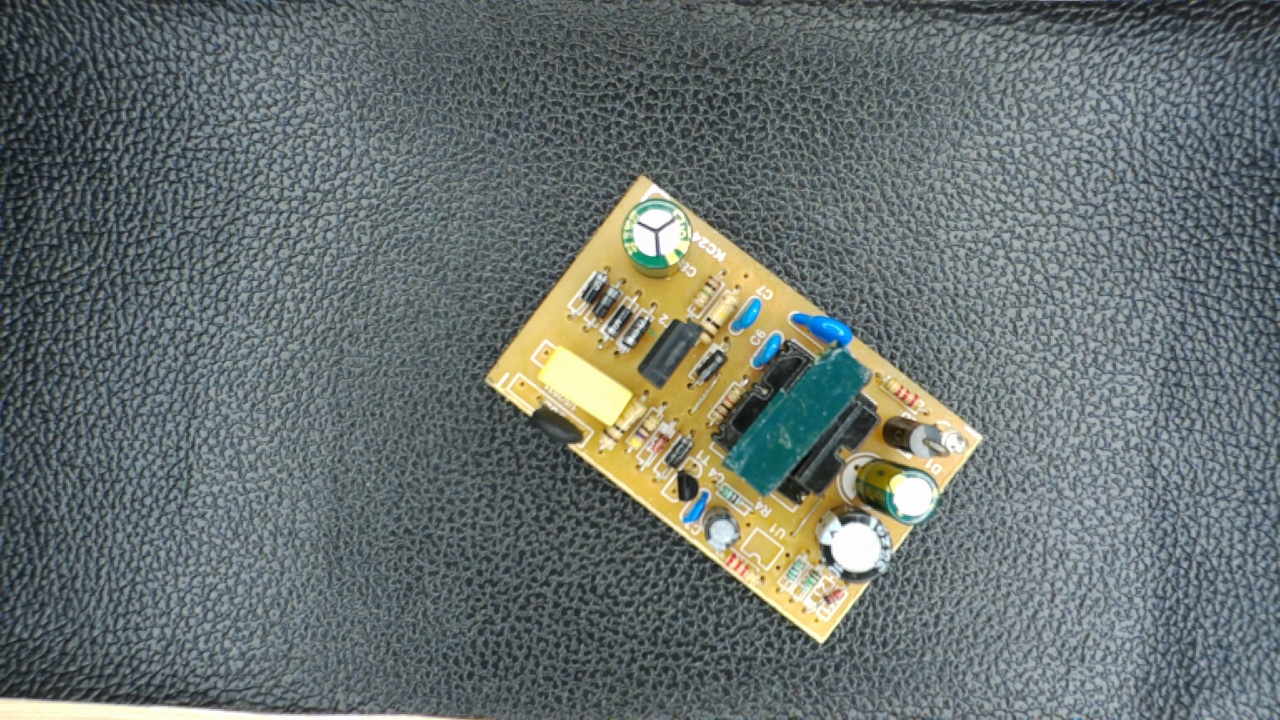fuse: (524, 392, 593, 449)
hv_capacitor: (615, 194, 698, 278)
mov: (785, 306, 857, 356)
